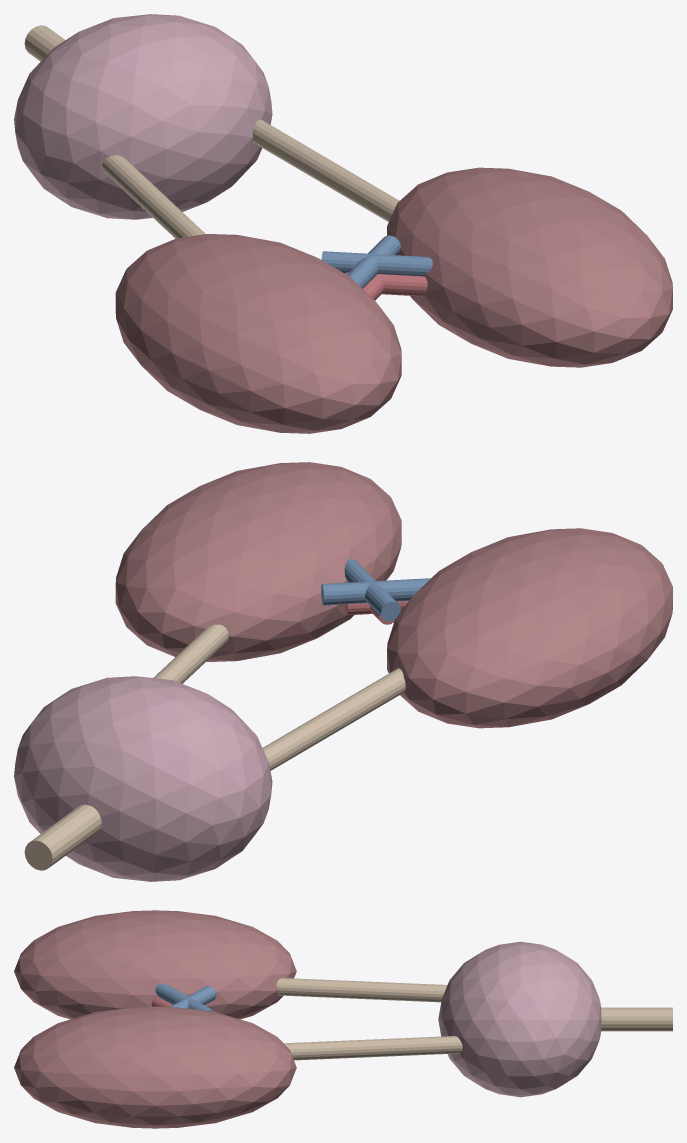
The model's file is urinary-g3-medium.glb.
The picture shows the model from 3 angles, top to bottom: view 1: azimuth 30°, elevation 25°; view 2: azimuth 150°, elevation 25°; view 3: azimuth 270°, elevation 25°; orthographic projection. The views are drawn at different scales.
Parts seen in each view (by area): view 1: left_kidney, right_kidney, bladder, right_ureter, left_ureter, right_renal_vein_proxy, left_renal_vein_proxy, right_renal_artery_proxy, urethra_proxy; view 2: left_kidney, right_kidney, bladder, left_ureter, urethra_proxy, right_ureter, left_renal_vein_proxy, right_renal_vein_proxy; view 3: right_kidney, left_kidney, bladder, right_ureter, left_ureter, urethra_proxy, left_renal_vein_proxy, right_renal_vein_proxy.
Part boxes in pixels (x1,y1,x2,y2): left_kidney: (115, 234, 401, 433); right_kidney: (387, 167, 672, 367); bladder: (14, 14, 272, 219); right_ureter: (252, 119, 399, 221); left_ureter: (102, 155, 205, 238); right_renal_vein_proxy: (321, 251, 432, 276); left_renal_vein_proxy: (347, 235, 400, 288); right_renal_artery_proxy: (346, 272, 427, 296); urethra_proxy: (24, 25, 65, 61); left_kidney: (387, 528, 672, 728); right_kidney: (115, 462, 401, 661); bladder: (14, 676, 272, 881); left_ureter: (262, 668, 405, 770); urethra_proxy: (24, 804, 101, 870); right_ureter: (153, 624, 228, 683); left_renal_vein_proxy: (321, 578, 430, 605); right_renal_vein_proxy: (344, 558, 400, 621); right_kidney: (14, 1006, 296, 1128); left_kidney: (14, 910, 296, 1019); bladder: (438, 941, 601, 1097); right_ureter: (284, 1036, 462, 1060); left_ureter: (276, 978, 447, 1002); urethra_proxy: (601, 1007, 672, 1031); left_renal_vein_proxy: (155, 983, 214, 1011); right_renal_vein_proxy: (169, 985, 216, 1008).
Size of the model in its own units: 2.08 by 0.74 by 3.36.
